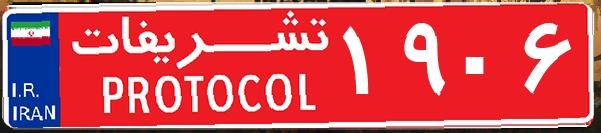0: (460, 20, 520, 115)
1: (340, 20, 400, 115)
6: (520, 20, 580, 115)
9: (400, 20, 460, 115)
تشریفات: (60, 8, 340, 125)
